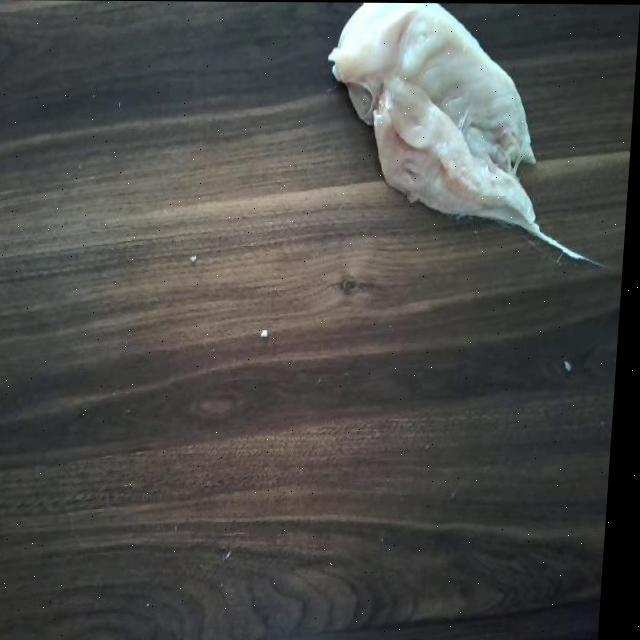breast: (320, 2, 550, 248)
